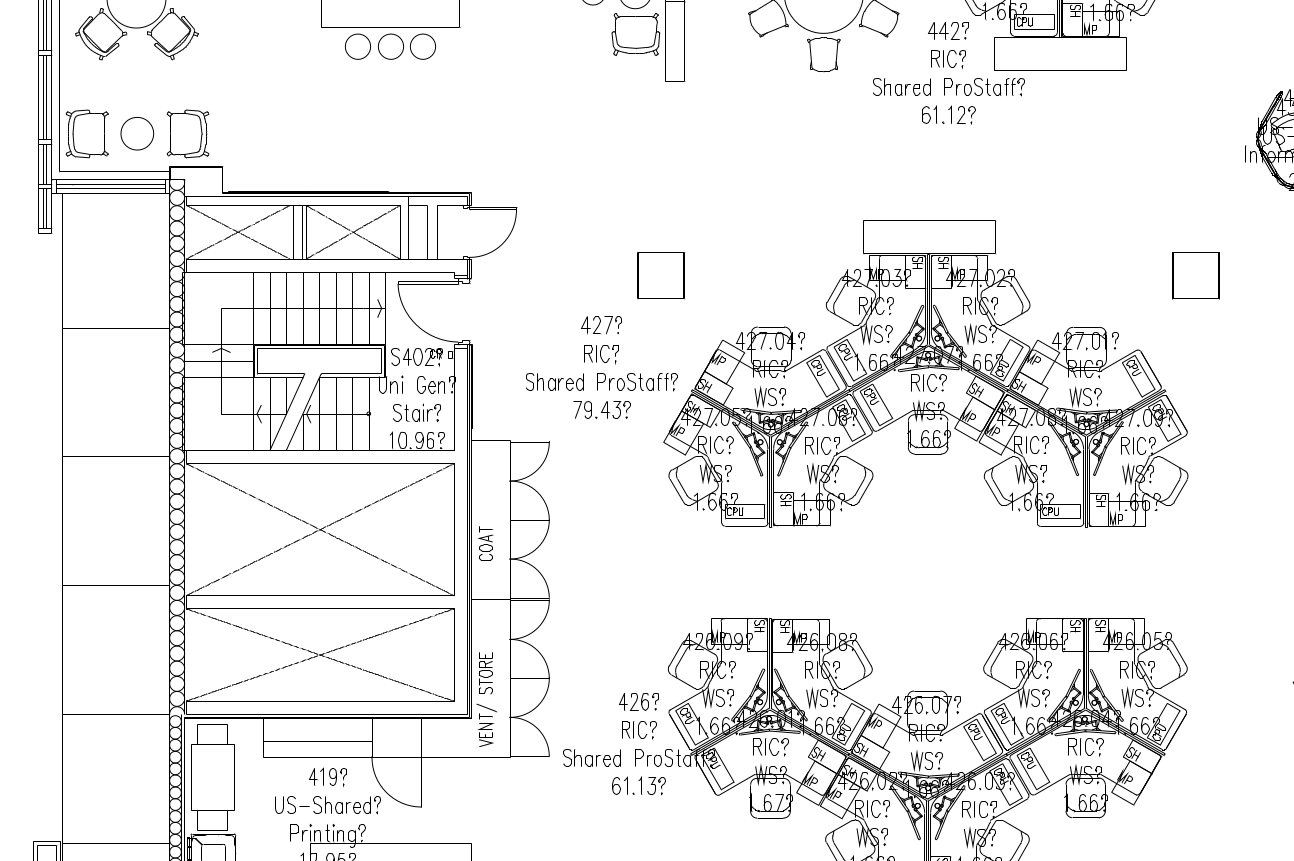door: (390, 277, 466, 346), (360, 753, 437, 814), (471, 201, 522, 264)
